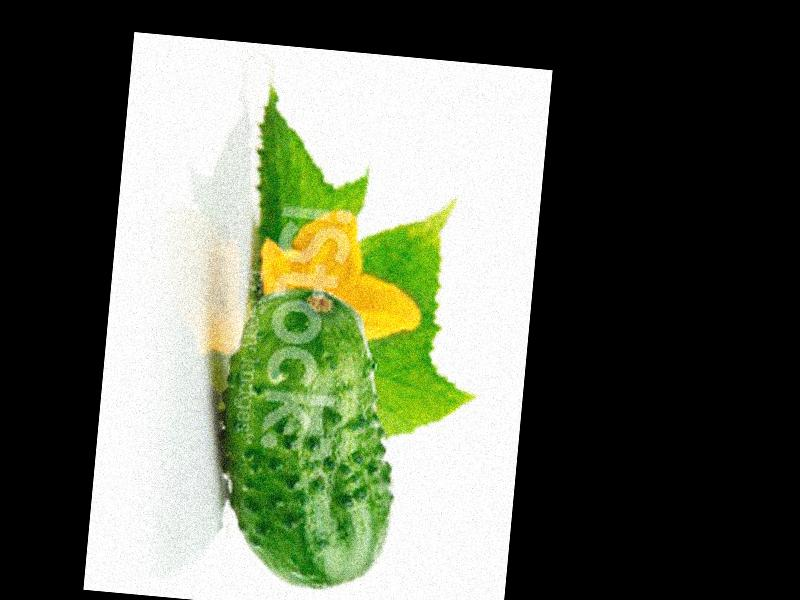Cucumber: (208, 286, 410, 595)
